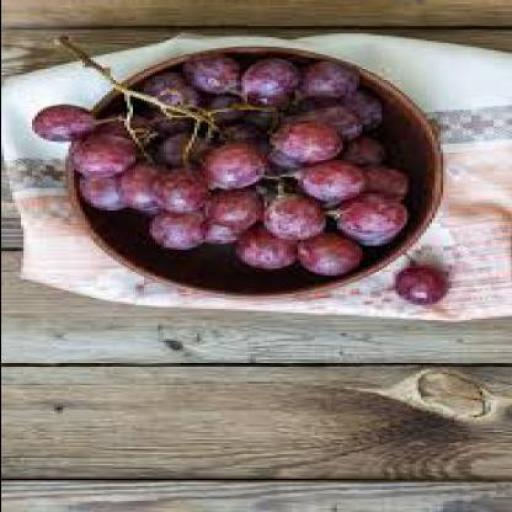biodegradable: (232, 59, 296, 108), (288, 160, 358, 204), (277, 106, 358, 144), (311, 91, 383, 133), (331, 198, 403, 240), (196, 186, 260, 232), (260, 197, 327, 240), (196, 147, 260, 191), (291, 235, 355, 279), (232, 225, 291, 272), (272, 124, 338, 166), (67, 138, 131, 181), (26, 106, 96, 144), (148, 169, 204, 216), (294, 60, 355, 102), (179, 56, 235, 98), (388, 268, 445, 307), (115, 166, 157, 216), (143, 217, 204, 251), (352, 168, 406, 205), (148, 134, 202, 168), (73, 179, 118, 214), (207, 126, 266, 152), (333, 136, 377, 168), (98, 114, 146, 143), (196, 98, 246, 124), (152, 92, 198, 118), (260, 149, 291, 186), (135, 74, 179, 100), (196, 220, 235, 246), (148, 115, 186, 132), (341, 235, 386, 247)
